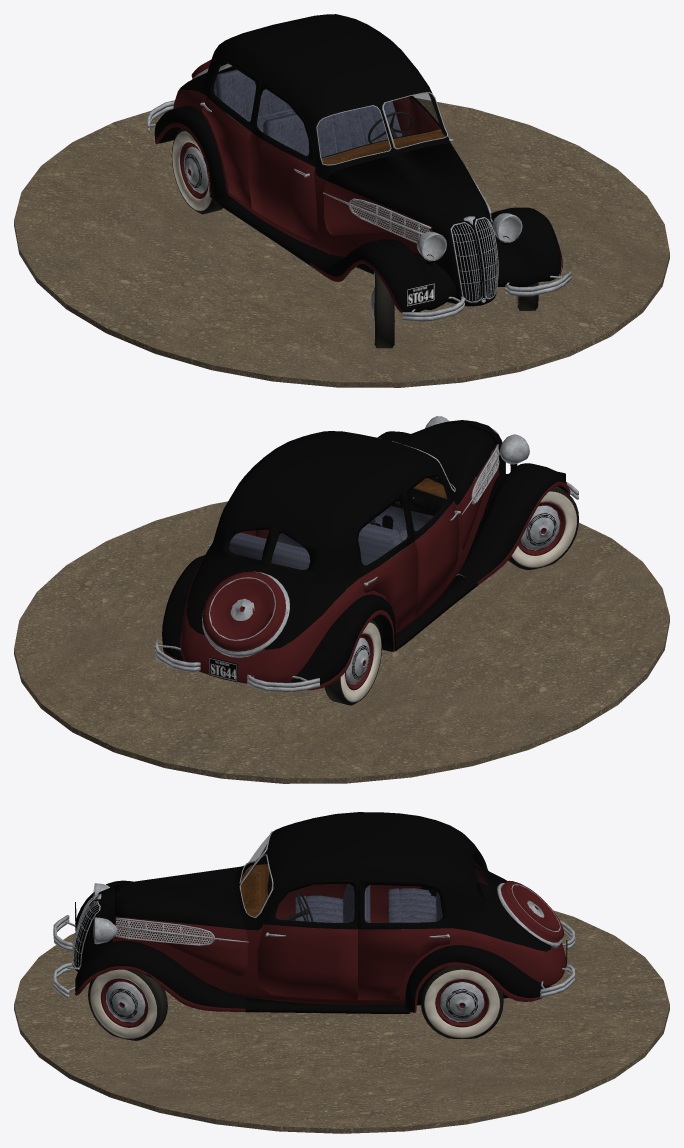
Rendered from bmw-inspired-1930s.glb.
The picture shows the model from 3 angles, top to bottom: view 1: azimuth 30°, elevation 25°; view 2: azimuth 150°, elevation 25°; view 3: azimuth 270°, elevation 25°; orthographic projection. The views are drawn at different scales.
Visible parts, largest first — view 1: Circle, Cube.013; view 2: Circle, Cube.013; view 3: Cube.013, Circle.
Boxes of the visible parts, x1=… form: Circle: x1=14, y1=98, x2=669, y2=387; Cube.013: x1=147, y1=14, x2=571, y2=348; Circle: x1=14, y1=501, x2=669, y2=783; Cube.013: x1=155, y1=416, x2=578, y2=705; Cube.013: x1=53, y1=812, x2=575, y2=1040; Circle: x1=14, y1=910, x2=669, y2=1133.
Size of the model in its own units: 6.31 by 2.07 by 7.04.
14 materials, 8 textured.
